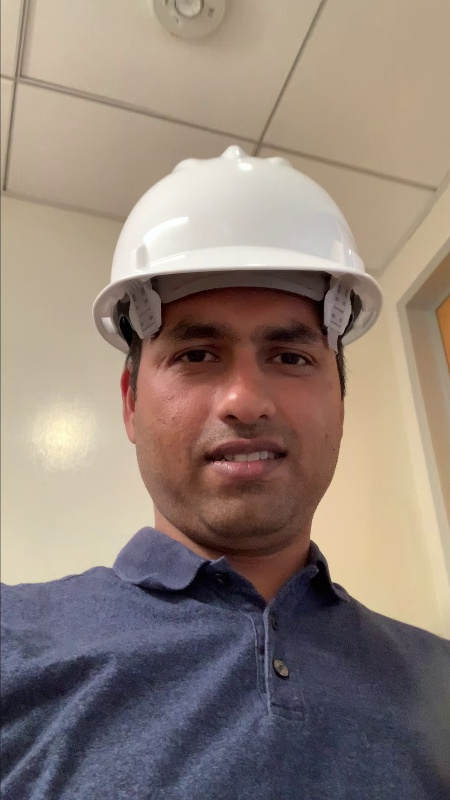helmet: (105, 142, 376, 287)
